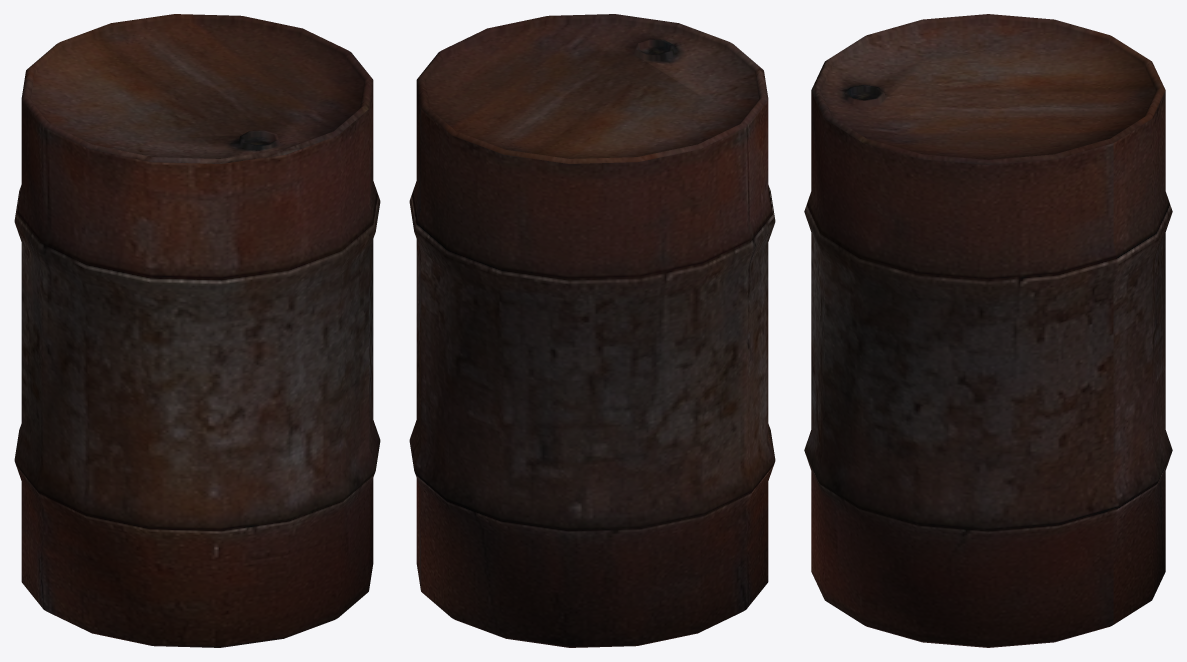
File: metal_barrel_4.fbx
3 views of the same model, side by side, from view 1: azimuth 30°, elevation 25°; view 2: azimuth 150°, elevation 25°; view 3: azimuth 270°, elevation 25° (orthographic).
Visible parts, largest first — view 1: metal_barrel_4; view 2: metal_barrel_4; view 3: metal_barrel_4.
Part boxes in pixels (x1=…): metal_barrel_4: x1=14, y1=14, x2=380, y2=647; metal_barrel_4: x1=409, y1=14, x2=775, y2=647; metal_barrel_4: x1=804, y1=14, x2=1172, y2=647.
Size of the model in its own units: 74.88 by 109 by 74.88.
